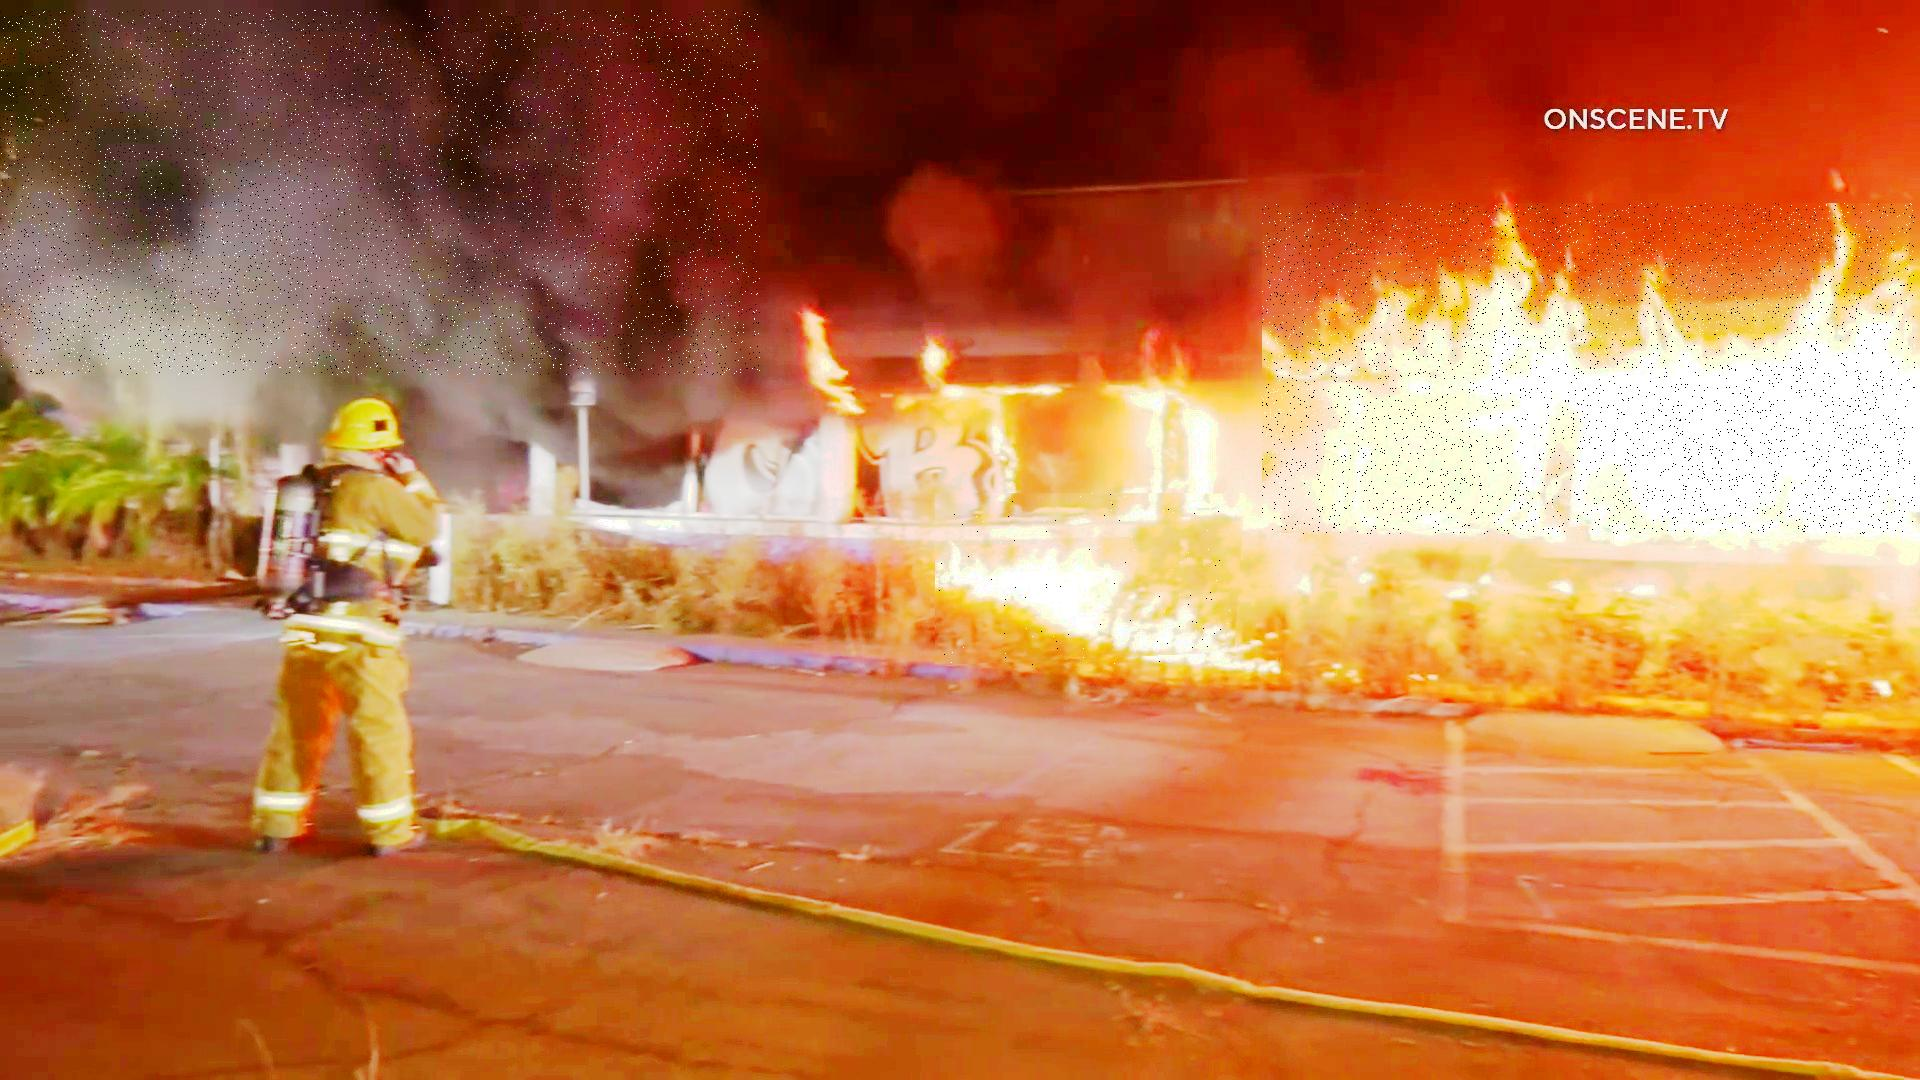fire: (1263, 203, 1916, 534), (936, 493, 1249, 666)
smoke: (0, 11, 761, 375)
